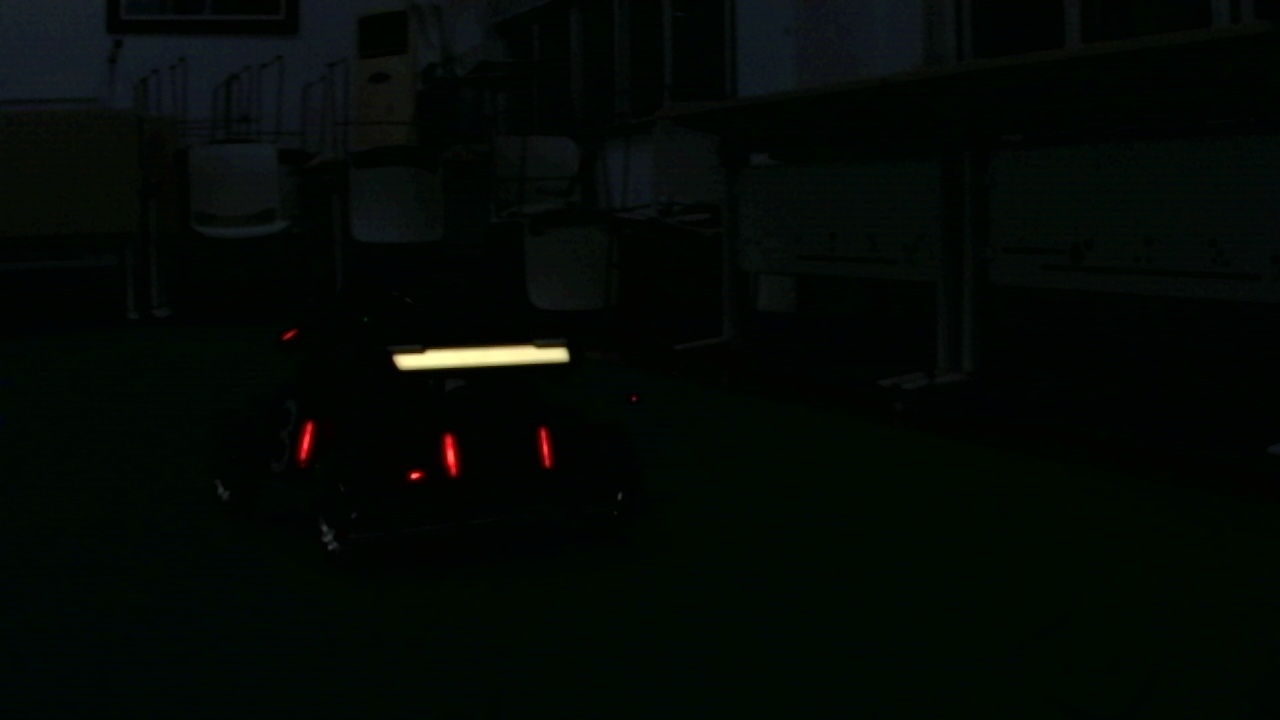lamp: (443, 429, 466, 484), (535, 426, 557, 469), (293, 414, 312, 462)
notpair1: (293, 416, 464, 483)
pair1: (441, 429, 555, 481)
